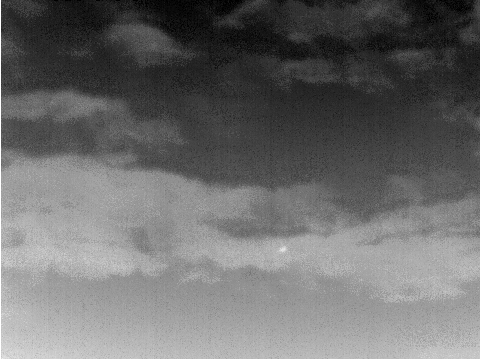dim target: (278, 244, 287, 255)
